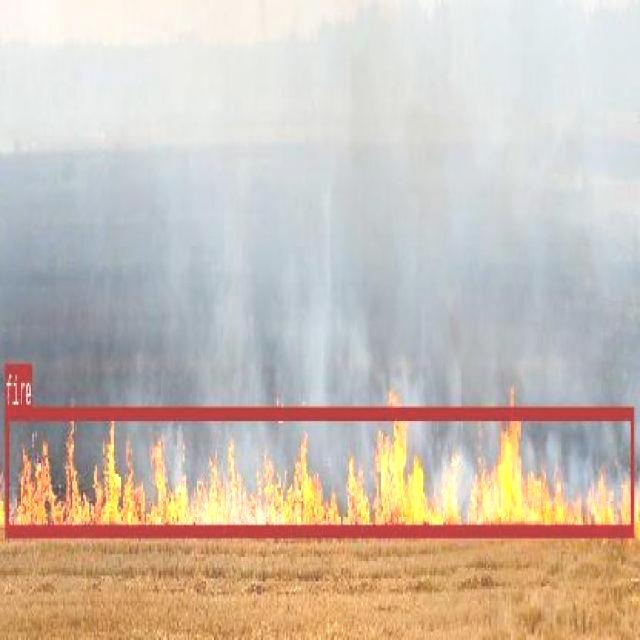fire: (4, 405, 634, 533)
